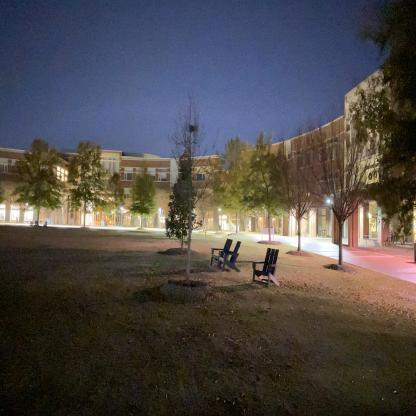eb2: (0, 143, 230, 247)
